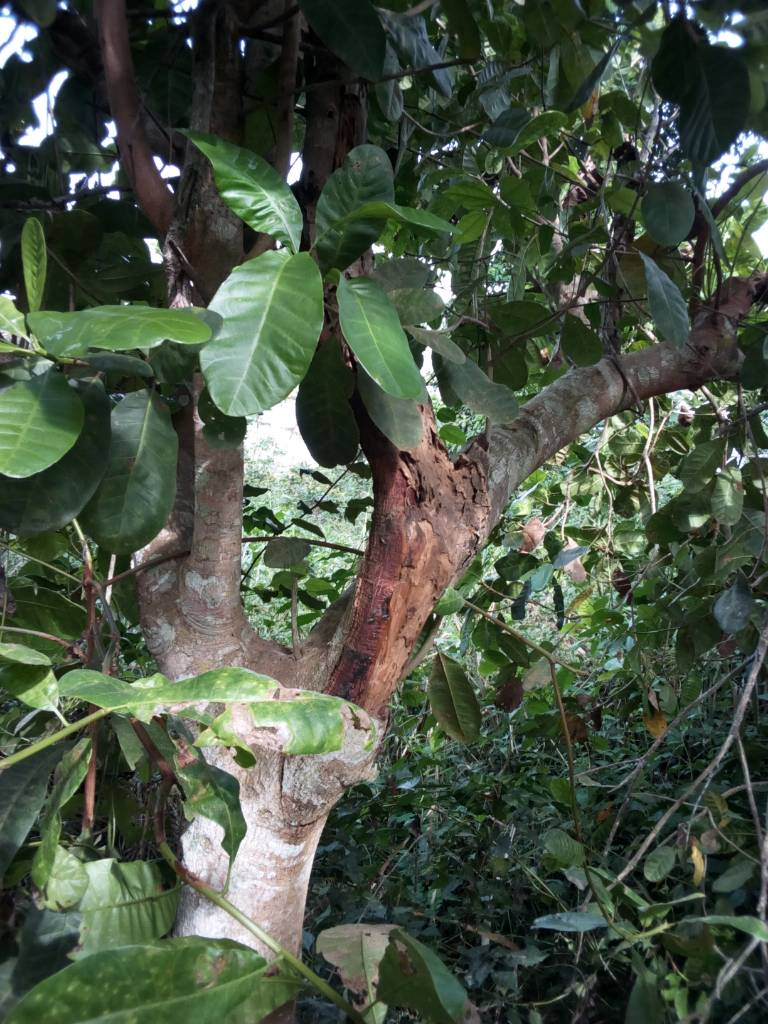Termites: (421, 441, 493, 544)
